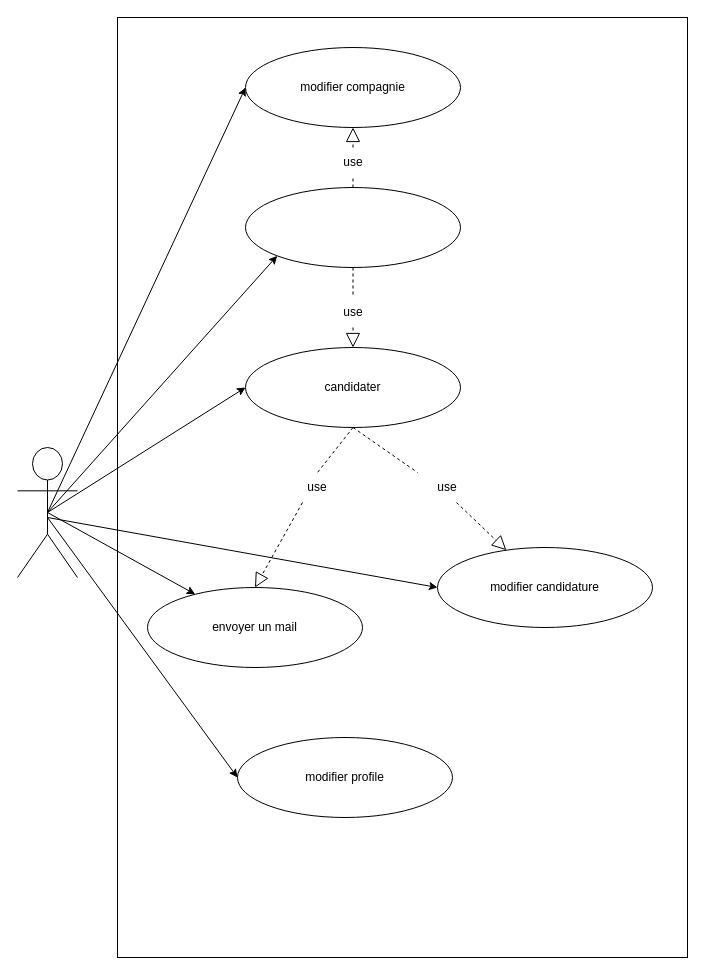
Some shapes in this 705 by 975 pixel diagram are drawn without their labels. Here are the shapes that lost their labels. From the top down, the centre of each, then its label:
At (x=352, y=227): "ajouter une compagnie".
At (x=47, y=512): "candidat".
